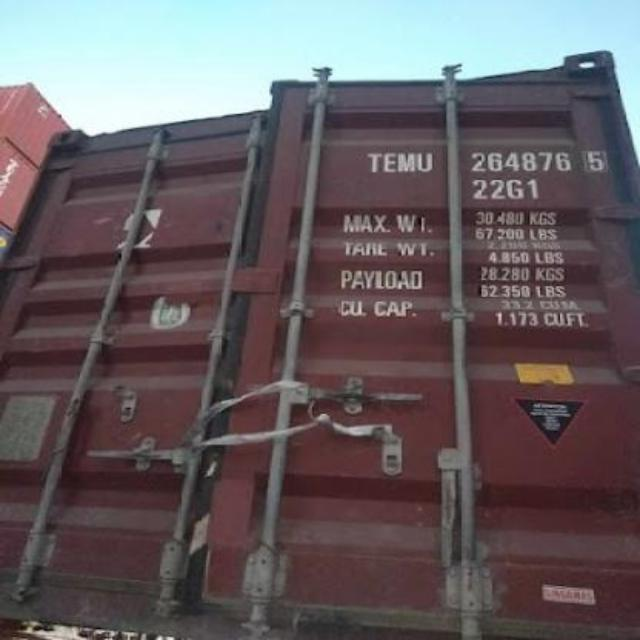2: (466, 146, 488, 174)
4: (502, 142, 522, 176)
5: (580, 146, 612, 174)
6: (486, 145, 504, 175), (556, 142, 572, 174)
7: (538, 145, 556, 175)
8: (522, 145, 538, 175)
E: (380, 145, 396, 181)
M: (394, 147, 416, 180)
T: (358, 147, 382, 176)
U: (414, 146, 436, 178)
